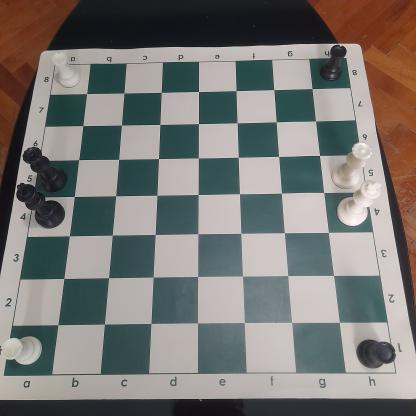black-king: (14, 180, 69, 230)
black-queen: (21, 143, 70, 194)
black-rook: (355, 336, 402, 375), (319, 44, 349, 84)
white-king: (335, 178, 384, 230)
white-queen: (331, 139, 374, 190)
white-rook: (2, 330, 44, 369), (49, 49, 83, 92)
